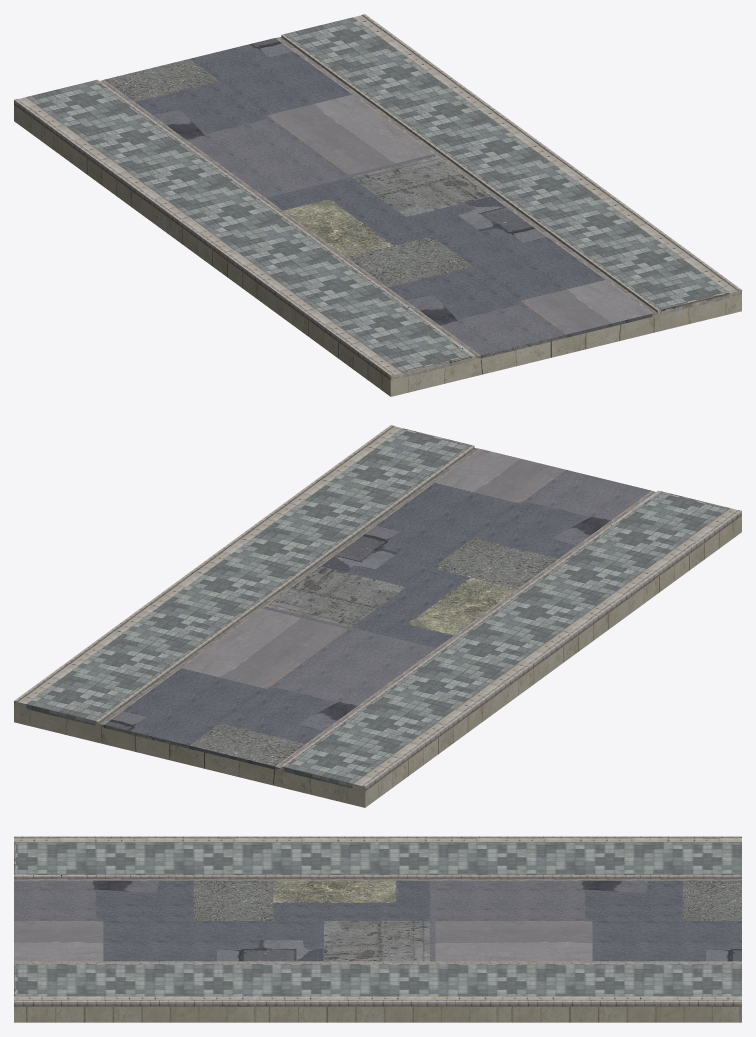
Rendered from road_b1_st3.fbx.
3 views of the same model, one above another, from view 1: azimuth 30°, elevation 25°; view 2: azimuth 150°, elevation 25°; view 3: azimuth 270°, elevation 25° (orthographic). The views are drawn at different scales.
Visible parts, largest first — view 1: road_b1_st3; view 2: road_b1_st3; view 3: road_b1_st3.
Boxes of the visible parts, <box> form: road_b1_st3: <box>14,14,741,396</box>; road_b1_st3: <box>14,425,741,807</box>; road_b1_st3: <box>14,836,741,1022</box>.
Bounding box in the file's own units: 1130 × 66 × 2100.
